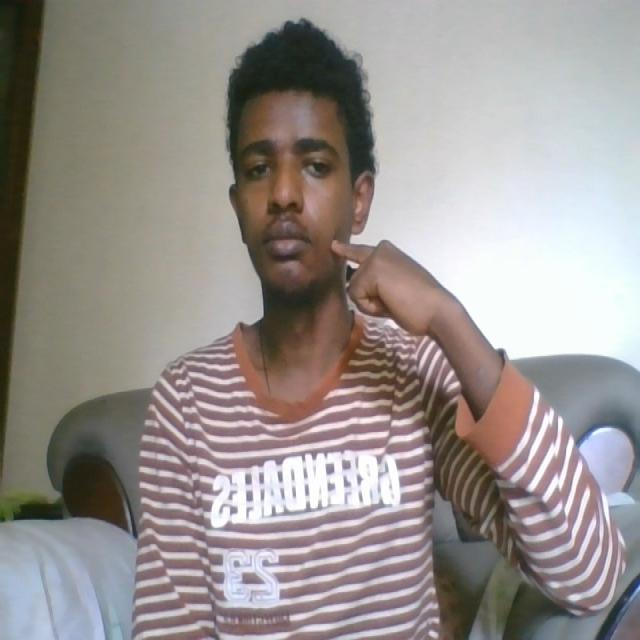enkuan_dehna_metachu: (321, 230, 450, 345)
